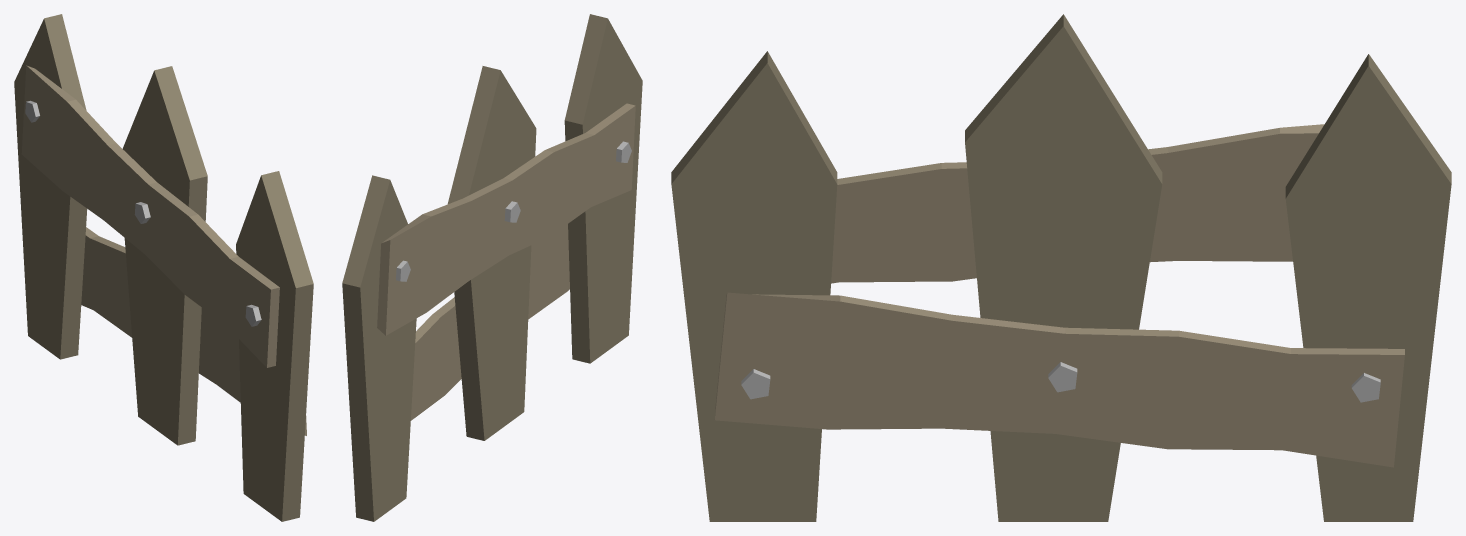
File: Fence_V6.fbx
The picture shows the model from 3 angles, left to right: view 1: azimuth 30°, elevation 25°; view 2: azimuth 150°, elevation 25°; view 3: azimuth 270°, elevation 25°; orthographic projection. The views are drawn at different scales.
Parts seen in each view (by area): view 1: Fence_v6; view 2: Fence_v6; view 3: Fence_v6.
Part boxes in pixels (x1,y1,x2,y2): Fence_v6: (14, 14, 313, 521); Fence_v6: (342, 14, 642, 521); Fence_v6: (671, 14, 1451, 521).
Bounding box in the file's own units: 0.5228 × 3.81 × 5.44.
